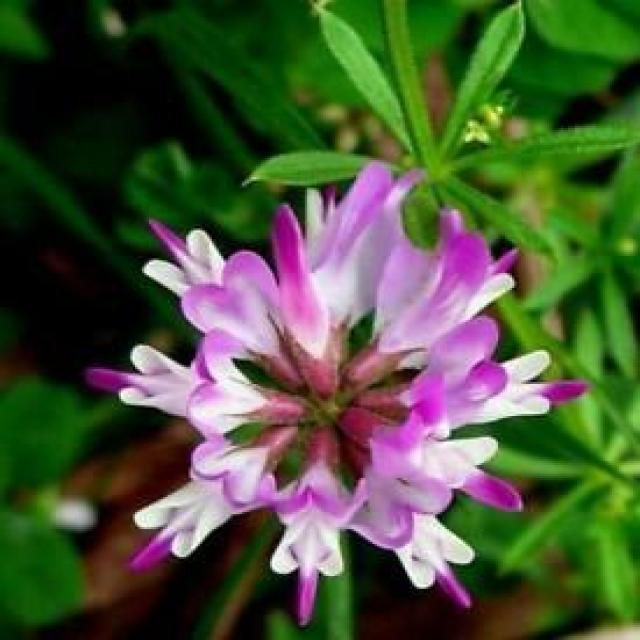organic waste: (107, 172, 582, 622)
